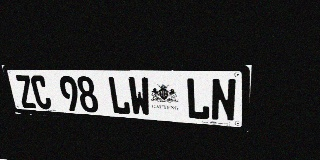8: (75, 76, 99, 113)
9: (58, 76, 82, 112)
C: (29, 75, 53, 110)
L: (185, 78, 210, 120), (107, 76, 131, 115)
N: (211, 78, 237, 122)
W: (127, 77, 152, 116)
Z: (14, 75, 37, 109)
